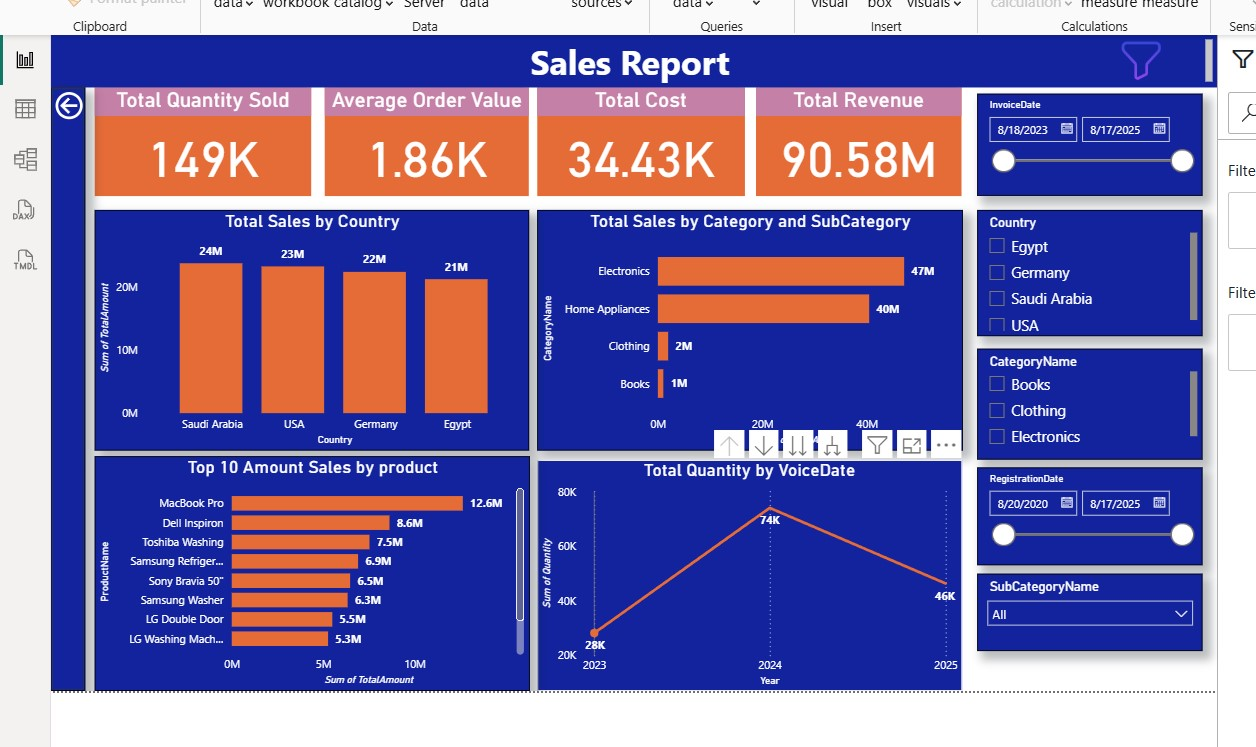

What the dashboard file says about the page in this screenshot:
{"tool":"powerbi","page":{"name":" info of Sales","canvas":[1280,720],"ordinal":0},"visuals":[{"type":"card","title":"Total Quantity Sold","fields":{"Values":["_measreses.Total Quantity Sold"]},"box":[48.3,57.9,237.7,119.4],"z":0},{"type":"barChart","title":"Total Sales by Category and SubCategory ","fields":{"Category":["Dim_Category.CategoryName","Dim_SubCategory.SubCategoryName"],"Y":["Sum(Fact_Sales.TotalAmount)"]},"box":[533.2,191.8,466.9,264.2],"z":1000},{"type":"columnChart","title":"Total Sales by Country","fields":{"Category":["Dim_Country.Country"],"Y":["Sum(Fact_Sales.TotalAmount)"]},"box":[48.3,191.8,476.5,264.2],"z":2000},{"type":"card","title":"Total Cost","fields":{"Values":["_measreses.Total Cost"]},"box":[533.2,57.9,228,119.4],"z":3000},{"type":"textbox","box":[0,0,1280,57.9],"z":4000},{"type":"shape","box":[0,57.9,37.4,662.3],"z":5000},{"type":"slicer","fields":{"Values":["Fact_Sales.InvoiceDate"]},"box":[1017,65.1,247.3,112.2],"z":6000},{"type":"actionButton","box":[0,57.9,48.3,39.8],"z":7000},{"type":"lineChart","title":"Total Quantity by VoiceDate","fields":{"Y":["Sum(Fact_Sales.Quantity)"],"Category":["Fact_Sales.InvoiceDate.Variation.Date Hierarchy.Year","Fact_Sales.InvoiceDate.Variation.Date Hierarchy.Quarter","Fact_Sales.InvoiceDate.Variation.Date Hierarchy.Month"]},"box":[533.8,466.6,466.6,253.9],"z":8000},{"type":"image","box":[1112.3,0,167.7,57.9],"z":9000},{"type":"slicer","fields":{"Values":["Dim_Country.Country"]},"box":[1017,191.8,247.3,138.7],"z":10000},{"type":"slicer","fields":{"Values":["Dim_Category.CategoryName"]},"box":[1017,345,247.3,121.9],"z":11000},{"type":"slicer","fields":{"Values":["Dim_Customer.RegistrationDate"]},"box":[1017,475.3,247.3,107.4],"z":12000},{"type":"slicer","fields":{"Values":["Dim_SubCategory.SubCategoryName"]},"box":[1017,591.2,247.3,84.5],"z":13000},{"type":"barChart","title":"Top 10  Amount Sales by product ","fields":{"Category":["Dim_Product.ProductName"],"Y":["Sum(Fact_Sales.TotalAmount)"]},"box":[48,462.4,477.5,258],"z":14000},{"type":"card","title":"Total Profit","fields":{"Values":["_measreses.Total Profit"]},"box":[297.8,57.6,226.4,119.4],"z":15000},{"type":"card","title":"Total Sales ","fields":{"Values":["_measreses.Total Sales PY"]},"box":[779.1,57.6,220.3,119.5],"z":16000}]}

Visuals, with their boxes on the page's 1280x720 design canvas (x1, y1, x2, y2). These are canvas units, not pixel positions in the 1256x747 screenshot, which may show the page scaled, cropped or inside an application window:
"Total Quantity Sold" card: (left=48, top=58, right=286, bottom=177)
"Total Sales by Category and SubCategory " barChart: (left=533, top=192, right=1000, bottom=456)
"Total Sales by Country" columnChart: (left=48, top=192, right=525, bottom=456)
"Total Cost" card: (left=533, top=58, right=761, bottom=177)
textbox: (left=0, top=0, right=1280, bottom=58)
shape: (left=0, top=58, right=37, bottom=720)
slicer - Fact_Sales.InvoiceDate: (left=1017, top=65, right=1264, bottom=177)
actionButton: (left=0, top=58, right=48, bottom=98)
"Total Quantity by VoiceDate" lineChart: (left=534, top=467, right=1000, bottom=720)
image: (left=1112, top=0, right=1280, bottom=58)
slicer - Dim_Country.Country: (left=1017, top=192, right=1264, bottom=330)
slicer - Dim_Category.CategoryName: (left=1017, top=345, right=1264, bottom=467)
slicer - Dim_Customer.RegistrationDate: (left=1017, top=475, right=1264, bottom=583)
slicer - Dim_SubCategory.SubCategoryName: (left=1017, top=591, right=1264, bottom=676)
"Top 10  Amount Sales by product " barChart: (left=48, top=462, right=526, bottom=720)
"Total Profit" card: (left=298, top=58, right=524, bottom=177)
"Total Sales " card: (left=779, top=58, right=999, bottom=177)
